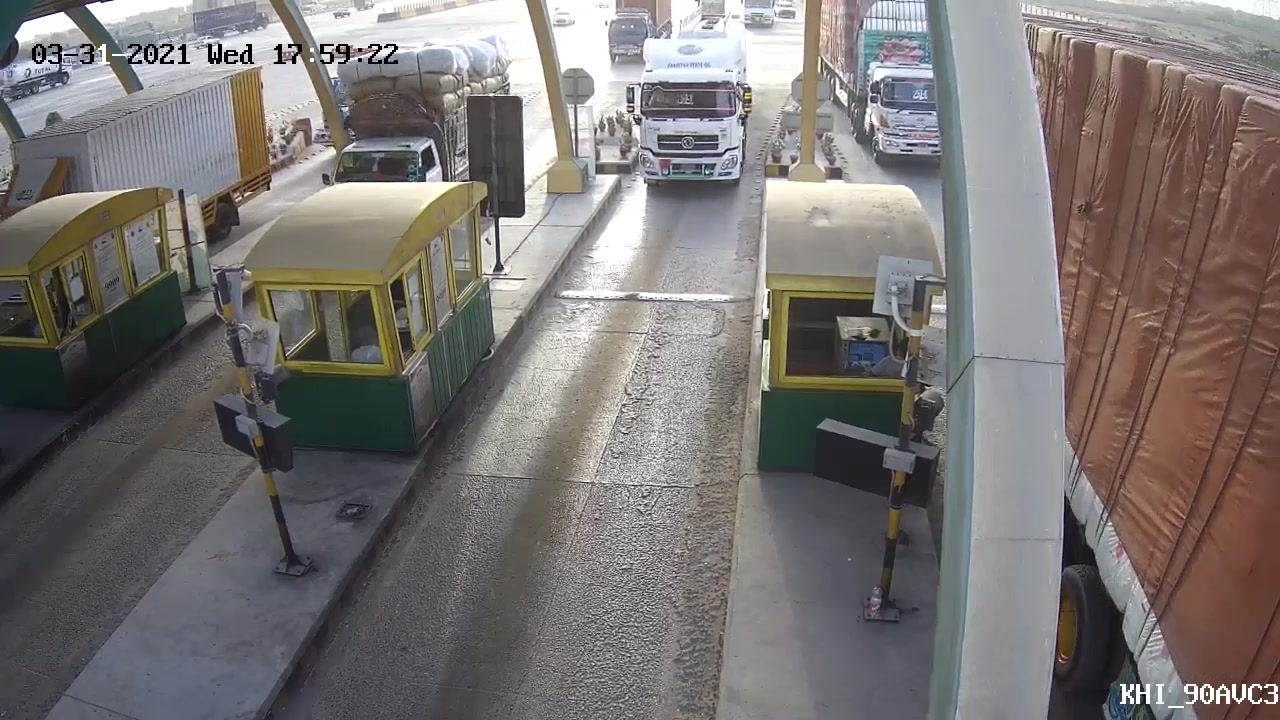F6: (617, 11, 757, 193)
